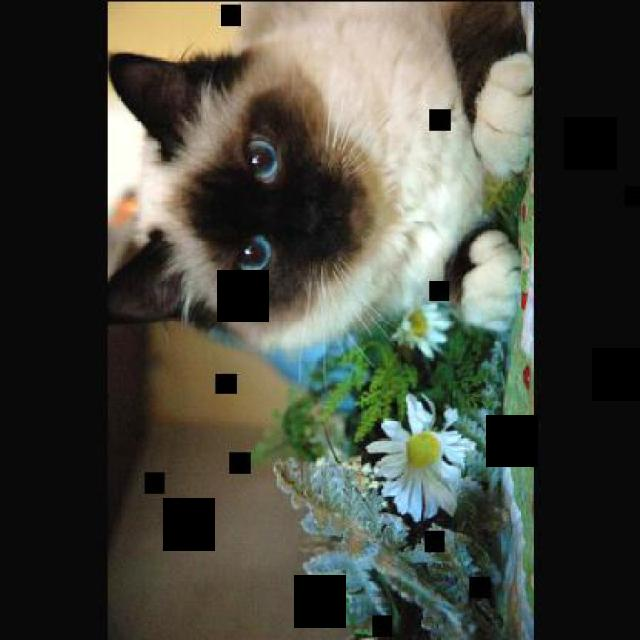unauthorized: (106, 0, 532, 355)
